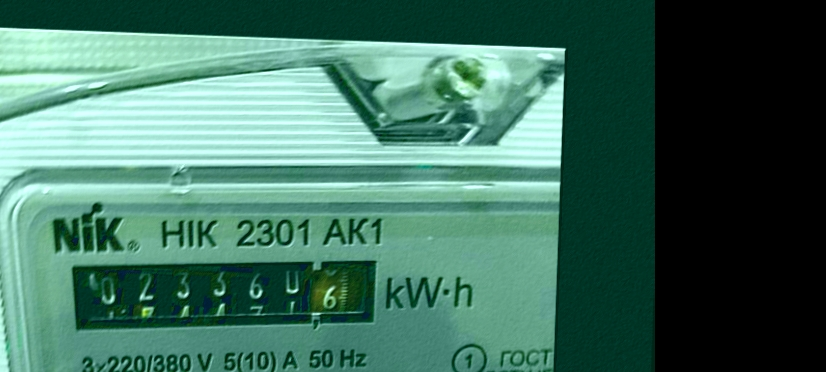0: (98, 272, 121, 307), (282, 265, 305, 297)
2: (137, 269, 158, 302)
3: (211, 264, 232, 298), (173, 269, 193, 301)
6: (246, 268, 269, 301), (321, 279, 343, 313)
screen: (55, 240, 396, 347)
